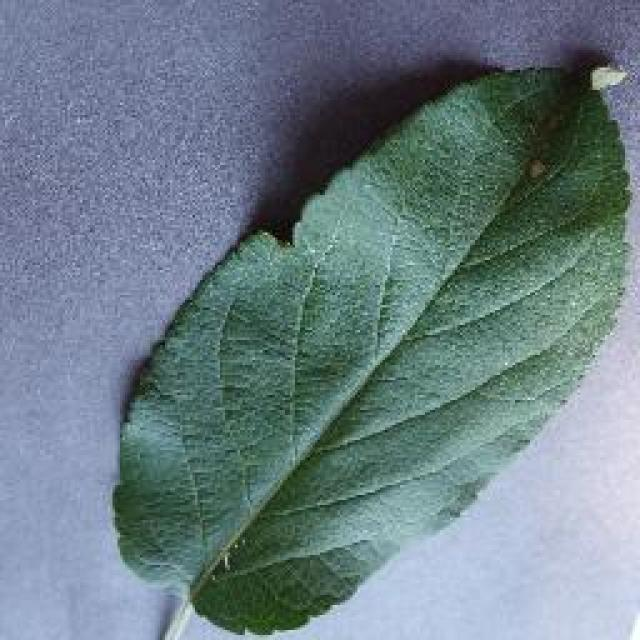apple healthy: (107, 45, 635, 637)
